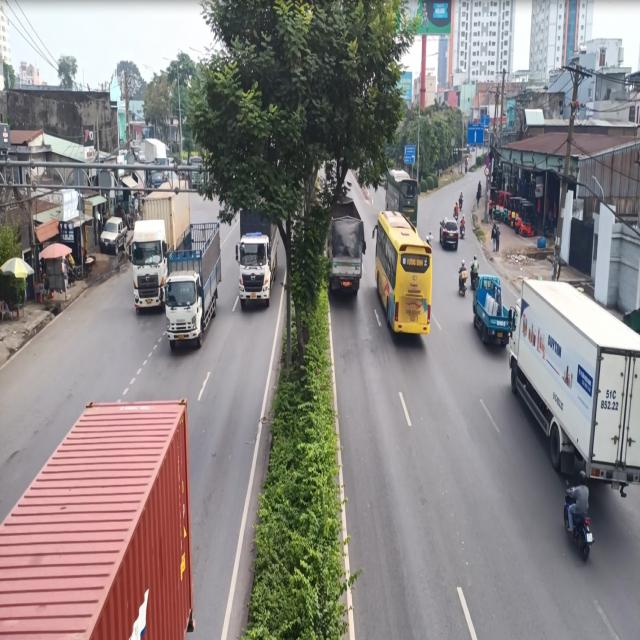bus: (371, 211, 434, 345)
motorbike: (564, 460, 593, 565), (457, 257, 471, 302)
truck: (507, 274, 640, 500), (132, 179, 190, 318), (163, 221, 222, 354), (233, 210, 273, 316)
